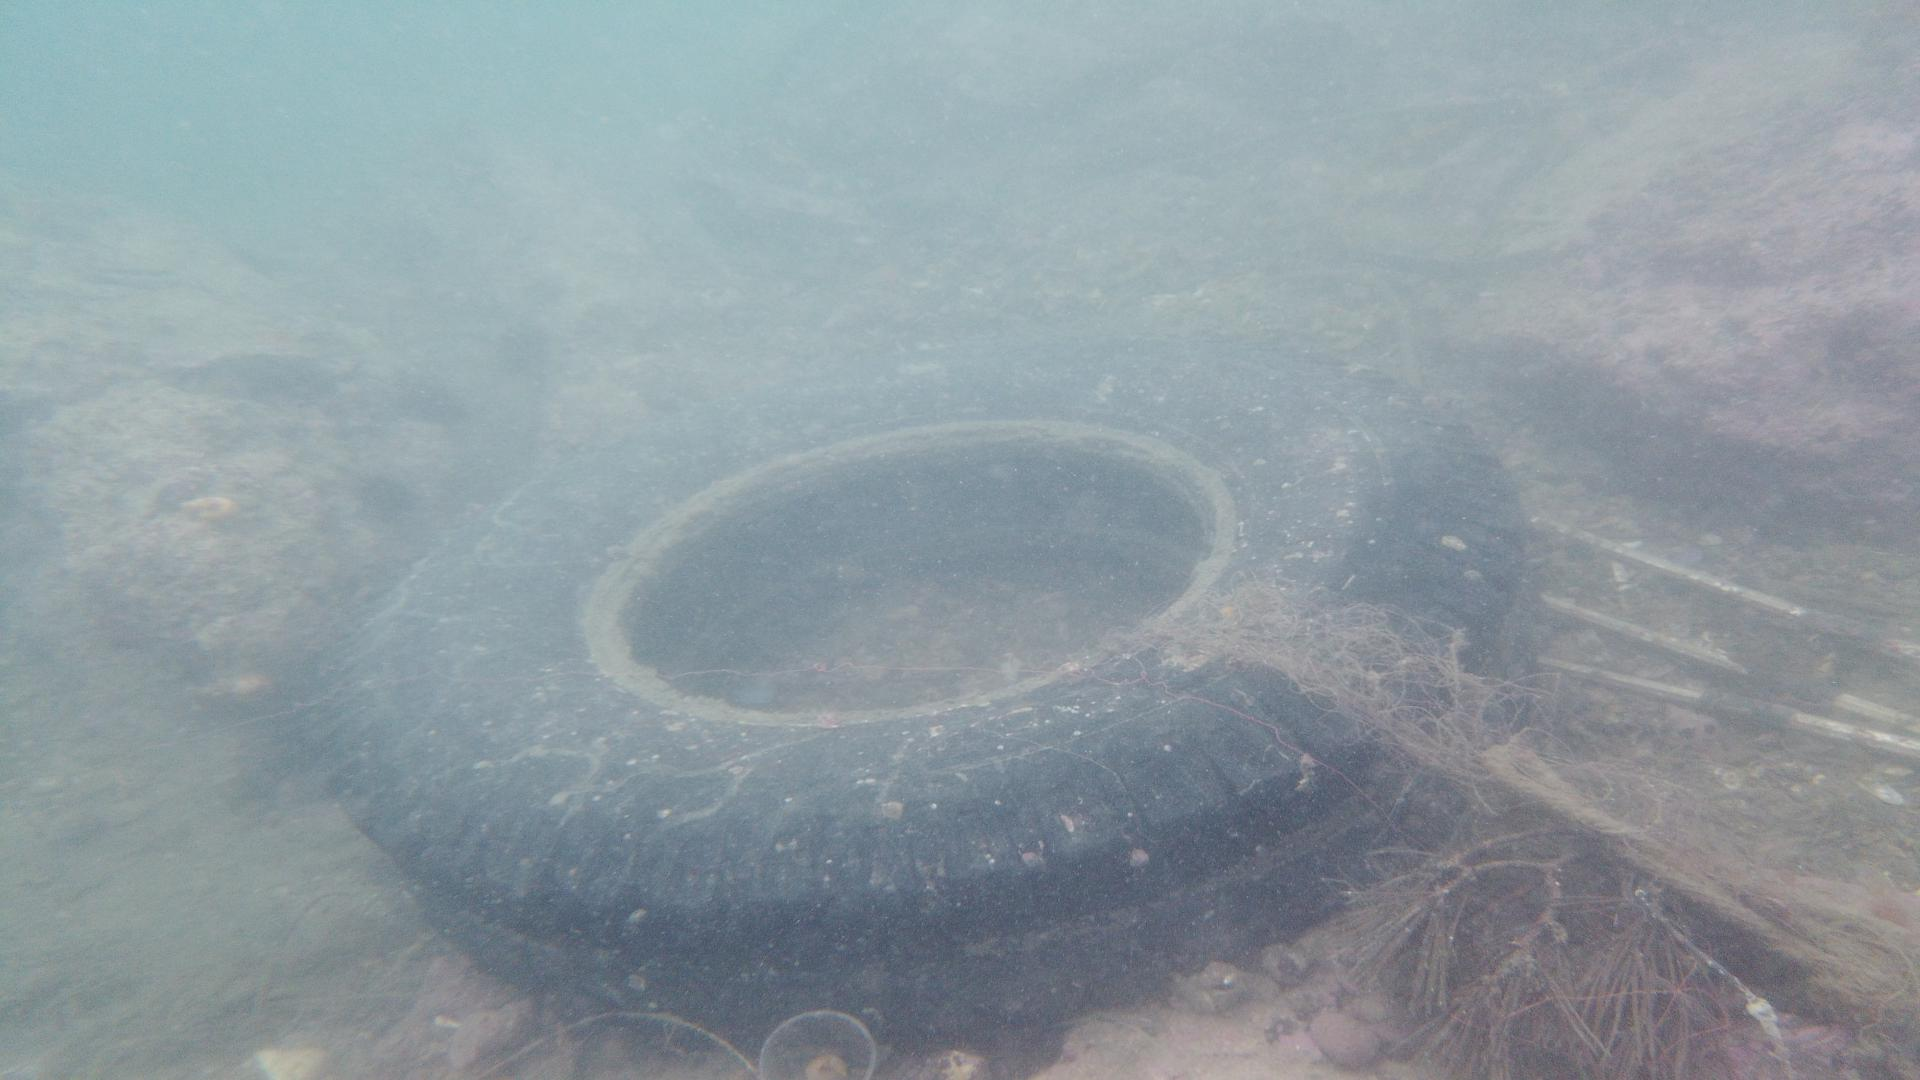rope: (1480, 733, 1871, 996)
tire: (334, 334, 1536, 1036)
